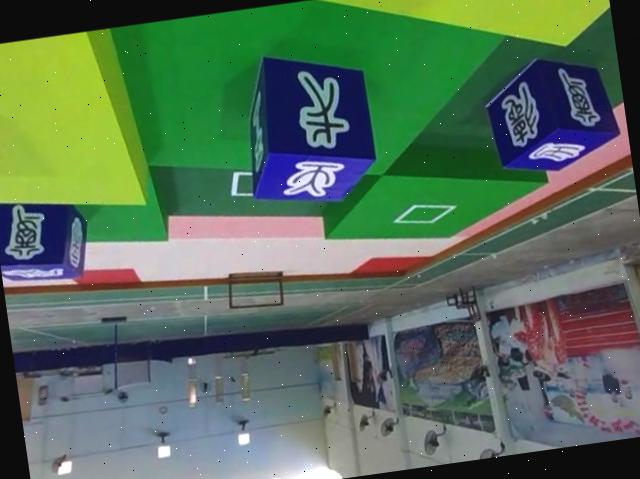R2 Fake Blue: (232, 41, 381, 214), (477, 46, 622, 178), (0, 187, 96, 288)
